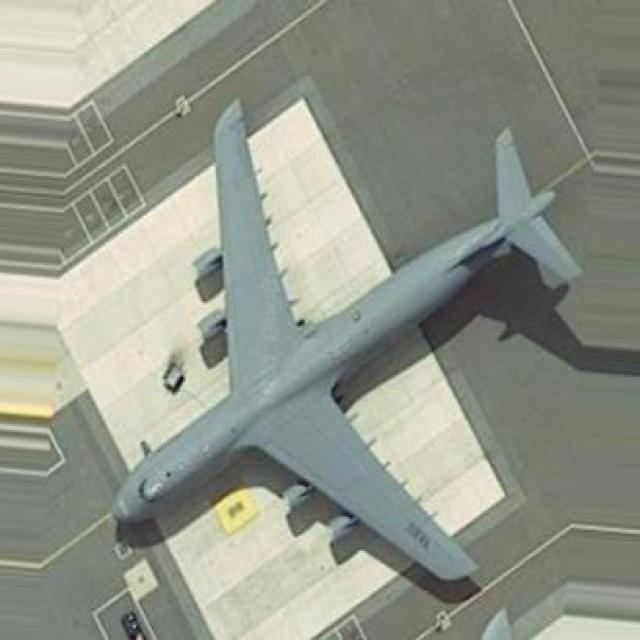C-5_TopDown: (112, 97, 592, 602)
